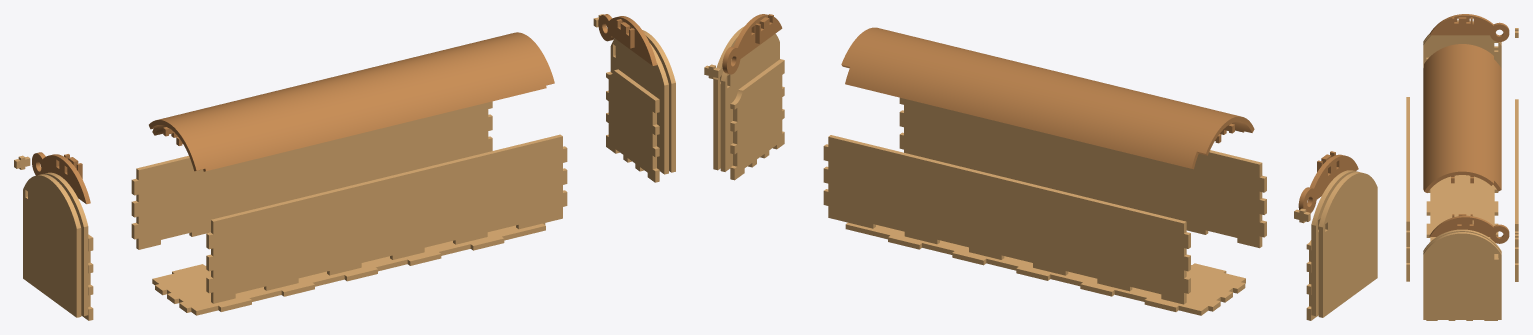
Rendered from MEB037_EXPLODED_DESIGN_ONLY.glb.
The picture shows the model from 3 angles, left to right: view 1: azimuth 30°, elevation 25°; view 2: azimuth 150°, elevation 25°; view 3: azimuth 270°, elevation 25°; orthographic projection. The views are drawn at different scales.
Parts seen in each view (by area): view 1: BODY_FRONT, LID_SKIN_RADIAL_4MM, BODY_BACK, OUTER_FASCIA_L, BODY_FLOOR, BODY_END_R, FASCIA_HIDDEN_BACKER_R, LID_END_L, FASCIA_HIDDEN_BACKER_L, LID_END_R, OUTER_FASCIA_R; view 2: BODY_BACK, LID_SKIN_RADIAL_4MM, BODY_FRONT, OUTER_FASCIA_L, BODY_FLOOR, BODY_END_R, FASCIA_HIDDEN_BACKER_R, LID_END_L, FASCIA_HIDDEN_BACKER_L, LID_END_R, OUTER_FASCIA_R; view 3: LID_SKIN_RADIAL_4MM, OUTER_FASCIA_R, BODY_FLOOR, LID_END_L, FASCIA_HIDDEN_BACKER_L, LID_END_R, BODY_FRONT, BODY_BACK, INTERNAL_RAIL_SADDLE_L, FASCIA_HIDDEN_BACKER_R.
Part boxes in pixels (bbox=[...]): BODY_FRONT: bbox=[206, 134, 567, 303]; LID_SKIN_RADIAL_4MM: bbox=[149, 32, 554, 171]; BODY_BACK: bbox=[131, 101, 492, 249]; OUTER_FASCIA_L: bbox=[23, 174, 81, 317]; BODY_FLOOR: bbox=[152, 223, 545, 315]; BODY_END_R: bbox=[606, 69, 659, 182]; FASCIA_HIDDEN_BACKER_R: bbox=[610, 38, 668, 174]; LID_END_L: bbox=[32, 152, 90, 204]; FASCIA_HIDDEN_BACKER_L: bbox=[42, 172, 88, 315]; LID_END_R: bbox=[598, 14, 657, 65]; OUTER_FASCIA_R: bbox=[642, 30, 675, 172]; BODY_BACK: bbox=[823, 135, 1190, 304]; LID_SKIN_RADIAL_4MM: bbox=[841, 27, 1254, 169]; BODY_FRONT: bbox=[899, 97, 1266, 248]; OUTER_FASCIA_L: bbox=[1318, 172, 1377, 317]; BODY_FLOOR: bbox=[845, 222, 1245, 315]; BODY_END_R: bbox=[730, 59, 784, 180]; FASCIA_HIDDEN_BACKER_R: bbox=[720, 34, 779, 171]; LID_END_L: bbox=[1298, 154, 1358, 213]; FASCIA_HIDDEN_BACKER_L: bbox=[1311, 170, 1358, 316]; LID_END_R: bbox=[722, 14, 782, 74]; OUTER_FASCIA_R: bbox=[713, 26, 744, 170]; LID_SKIN_RADIAL_4MM: bbox=[1423, 44, 1501, 192]; OUTER_FASCIA_R: bbox=[1423, 232, 1501, 319]; BODY_FLOOR: bbox=[1426, 175, 1498, 256]; LID_END_L: bbox=[1429, 14, 1509, 41]; FASCIA_HIDDEN_BACKER_L: bbox=[1423, 35, 1501, 68]; LID_END_R: bbox=[1429, 215, 1509, 243]; BODY_FRONT: bbox=[1406, 97, 1409, 281]; BODY_BACK: bbox=[1515, 99, 1518, 281]; INTERNAL_RAIL_SADDLE_L: bbox=[1452, 17, 1472, 31]; FASCIA_HIDDEN_BACKER_R: bbox=[1423, 229, 1501, 257].
Size of the model in its own units: 542 by 152 by 121.
